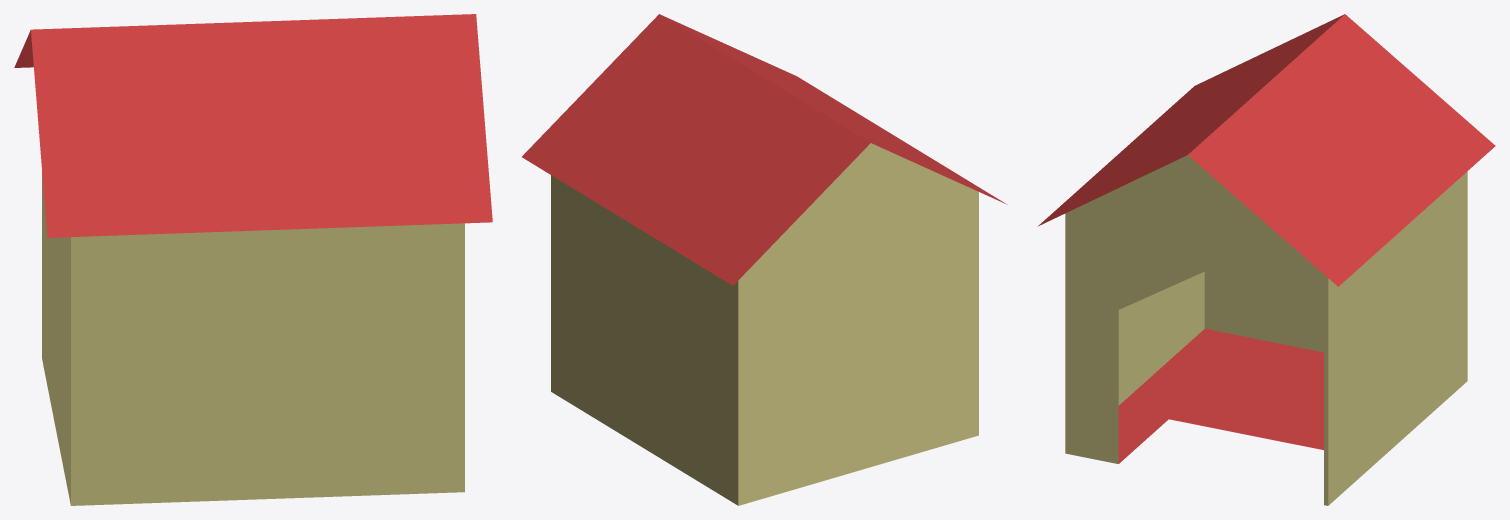
3 views of the same model, side by side, from view 1: azimuth 30°, elevation 25°; view 2: azimuth 150°, elevation 25°; view 3: azimuth 270°, elevation 25° (orthographic). The views are drawn at different scales.
Bounding box in the file's own units: 16.85 × 16.24 × 13.
